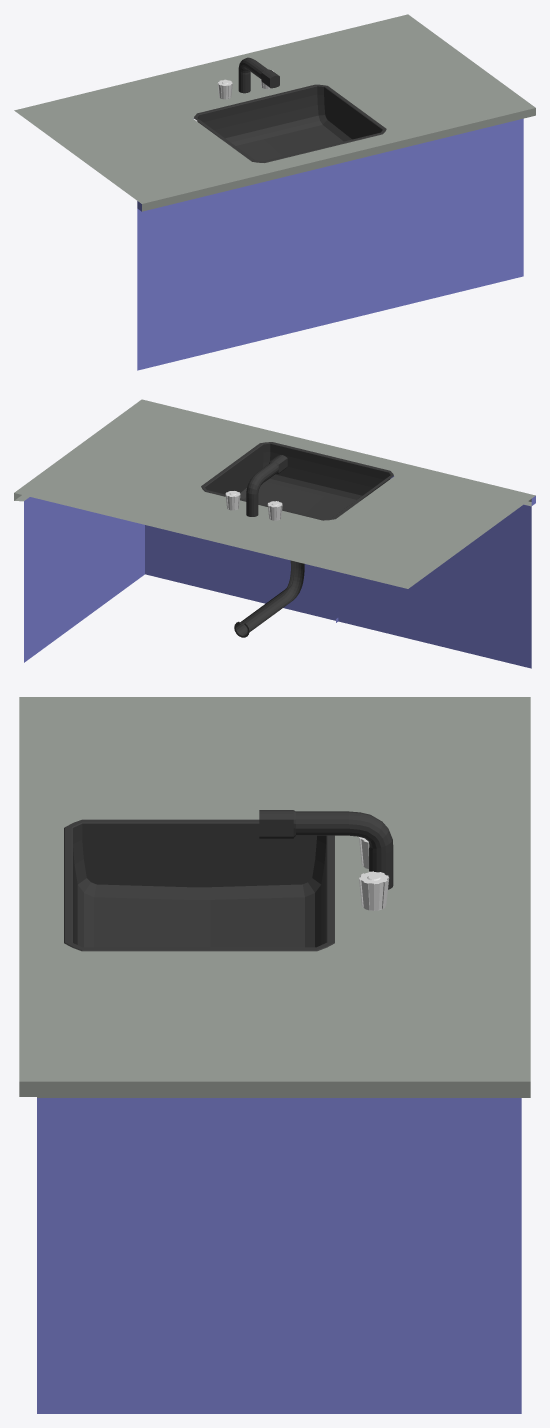
Rendered from Sink (2).fbx.
3 renders of one model, top to bottom at view 1: azimuth 30°, elevation 25°; view 2: azimuth 150°, elevation 25°; view 3: azimuth 270°, elevation 25°, orthographic. The views are drawn at different scales.
Visible parts, largest first — view 1: Cube; view 2: Cube; view 3: Cube.
Part boxes in pixels (left/top/right/bottom): Cube: left=14, top=14, right=535, bottom=370; Cube: left=14, top=399, right=535, bottom=668; Cube: left=19, top=697, right=530, bottom=1413.
Bounding box in the file's own units: 10200 × 5119 × 5730.
